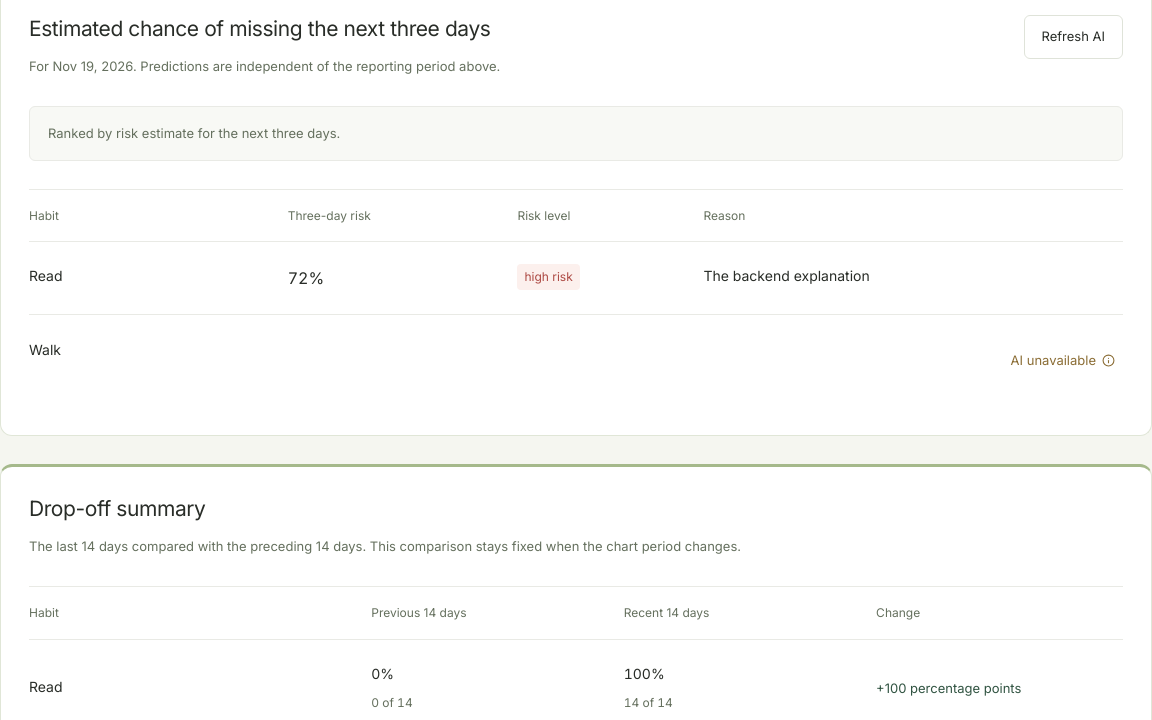
Insights report interactions › separates unavailable habits from valid rankings and exposes the failure reason by disclosure
(page scrolled)
Expected: the row "Read 72% high risk The backend explanation" is shown, [29,241,1123,314]
Expected: the element with class "unranked-row" shows "Walk", [29,341,61,358]
What coordinates should you click on to do the following:
click the heading "AI unavailable"
I would click on:
 (1063, 360)
Its box is [1011,352,1115,368].
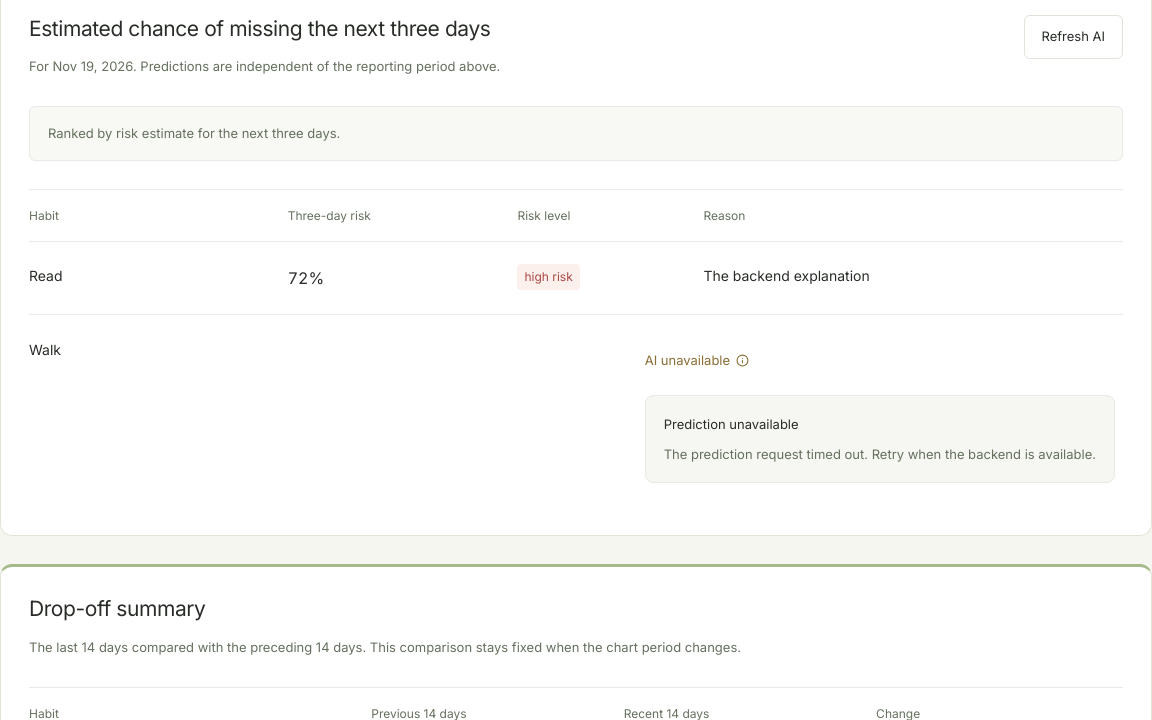
Expected: the element with class "risk-reason" shows "The prediction request timed out. Retry when the backend is available.", [664,446,1096,462]
